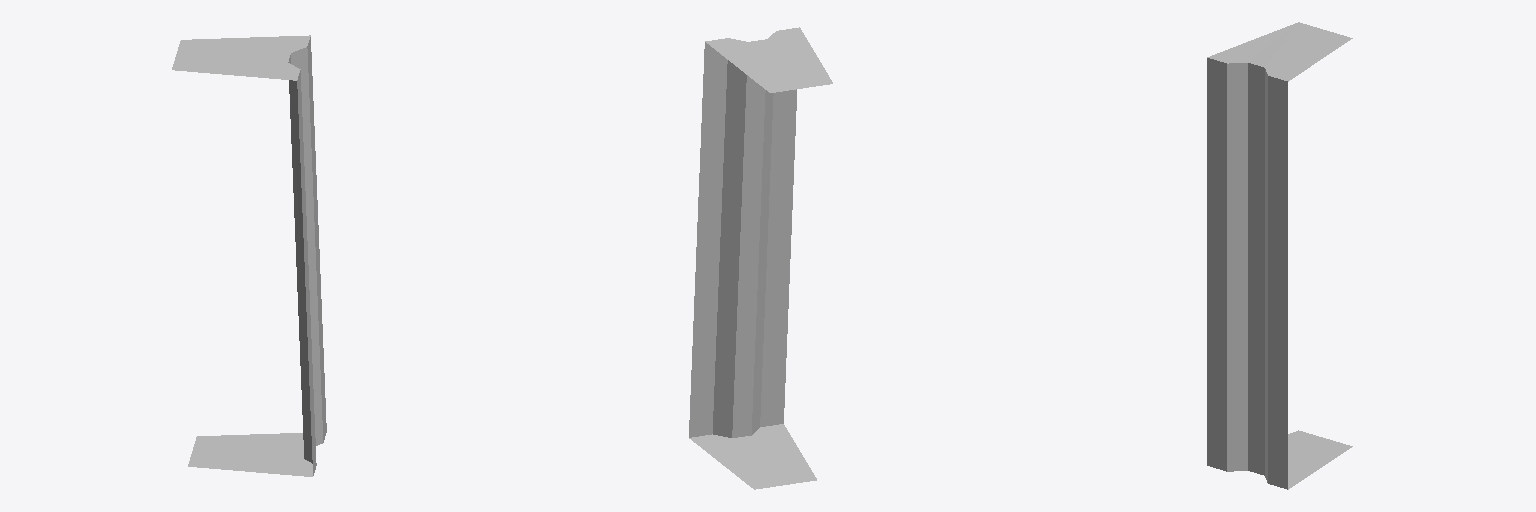
Rendered from original-123.obj.
The picture shows the model from 3 angles: view 1: azimuth 30°, elevation 25°; view 2: azimuth 150°, elevation 25°; view 3: azimuth 270°, elevation 25°; orthographic projection.
Parts seen in each view (by area): view 1: instance_64/Component_4/ID429#ID429; view 2: instance_64/Component_4/ID429#ID429; view 3: instance_64/Component_4/ID429#ID429.
Boxes of the visible parts, <box> form: instance_64/Component_4/ID429#ID429: <box>172,35,326,476</box>; instance_64/Component_4/ID429#ID429: <box>689,27,832,489</box>; instance_64/Component_4/ID429#ID429: <box>1207,22,1352,489</box>.
Size of the model in its own units: 0.0036 by 0.0093 by 0.003.